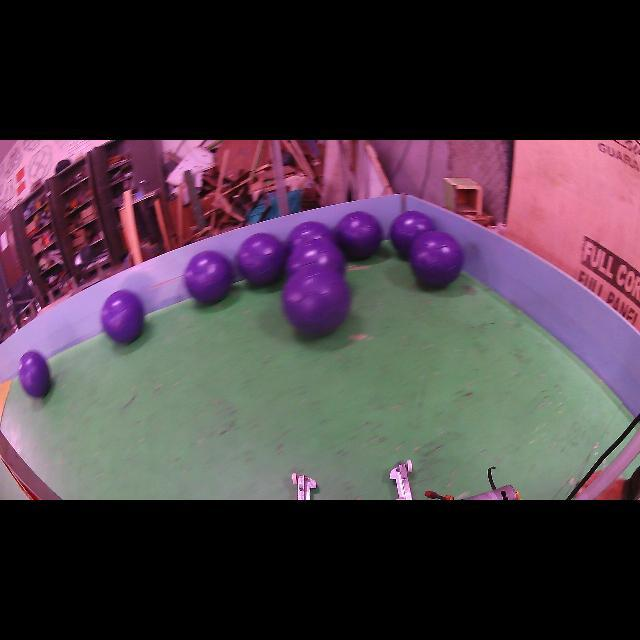P: (282, 266, 350, 336), (409, 230, 464, 288), (236, 232, 285, 285), (185, 251, 232, 304), (101, 290, 144, 342), (336, 211, 382, 259), (286, 239, 345, 276), (390, 211, 435, 256), (18, 351, 50, 398), (288, 221, 334, 251)
